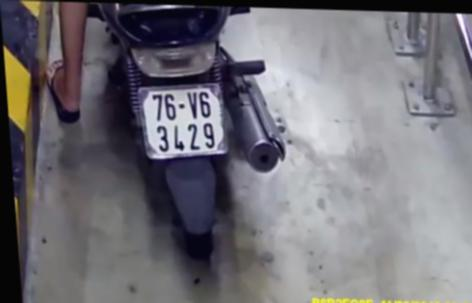License_Plate: (130, 84, 232, 169)
